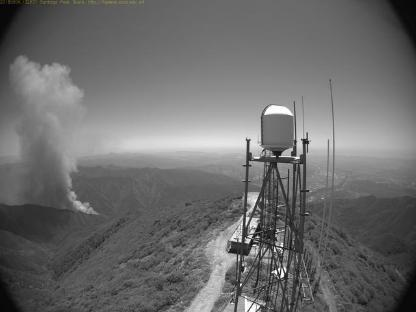smoke: (0, 54, 98, 218)
